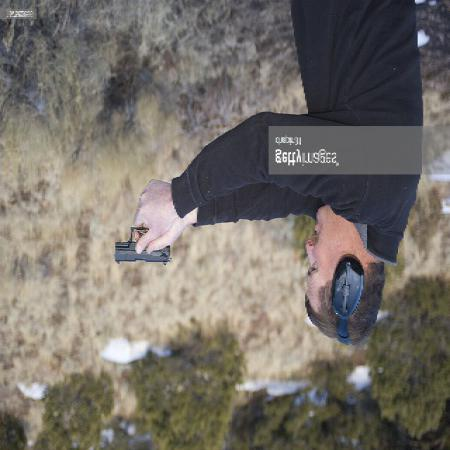Pistol: (108, 225, 177, 269)
